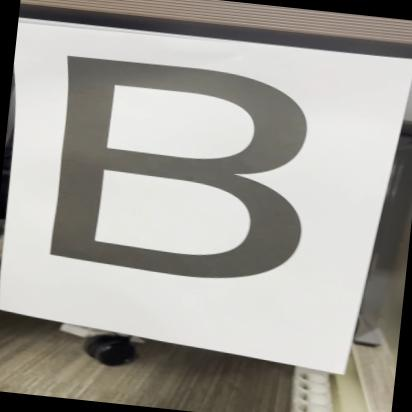seat: (20, 39, 323, 308)
